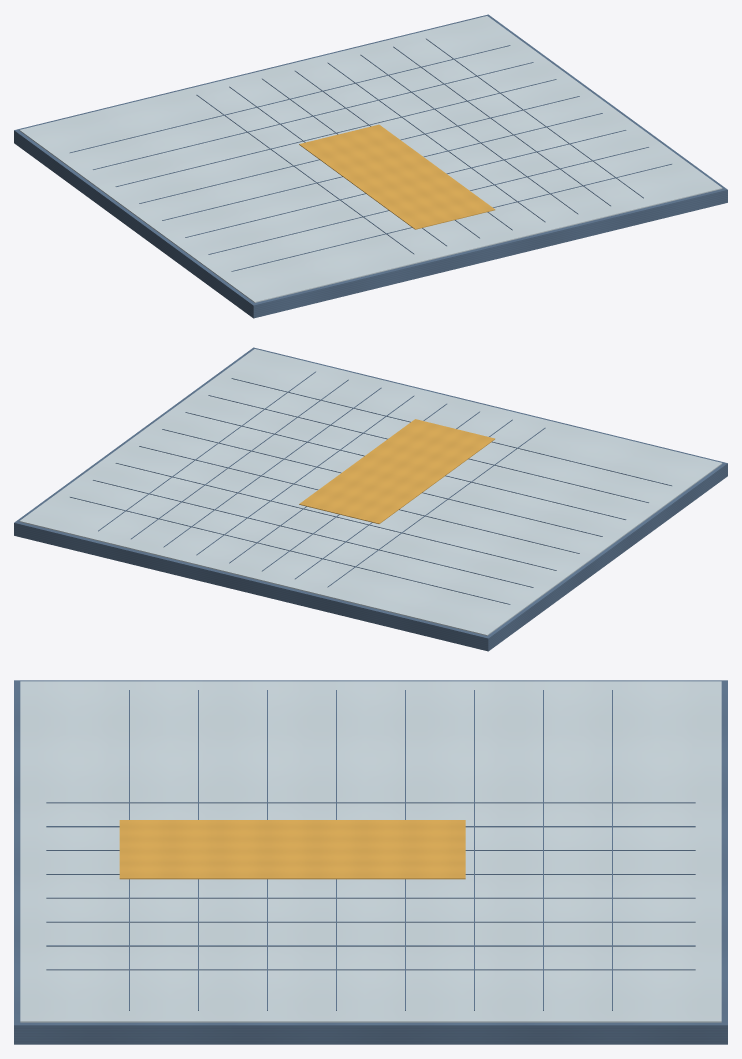
File: atlas100-s053-a07.lod1.glb
3 views of the same model, one above another, from view 1: azimuth 30°, elevation 25°; view 2: azimuth 150°, elevation 25°; view 3: azimuth 270°, elevation 25° (orthographic). The views are drawn at different scales.
Visible parts, largest first — view 1: atlas100-s053-a07:part-001, atlas100-s053-a07:part-000, atlas100-s053-a07:part-021, atlas100-s053-a07:part-013, atlas100-s053-a07:part-014, atlas100-s053-a07:part-015, atlas100-s053-a07:part-020, atlas100-s053-a07:part-018, atlas100-s053-a07:part-019, atlas100-s053-a07:part-017, atlas100-s053-a07:part-016; view 2: atlas100-s053-a07:part-001, atlas100-s053-a07:part-000, atlas100-s053-a07:part-021, atlas100-s053-a07:part-013, atlas100-s053-a07:part-014, atlas100-s053-a07:part-015, atlas100-s053-a07:part-019, atlas100-s053-a07:part-020, atlas100-s053-a07:part-016, atlas100-s053-a07:part-018, atlas100-s053-a07:part-017; view 3: atlas100-s053-a07:part-001, atlas100-s053-a07:part-000, atlas100-s053-a07:part-021, atlas100-s053-a07:part-010, atlas100-s053-a07:part-011, atlas100-s053-a07:part-012, atlas100-s053-a07:part-005, atlas100-s053-a07:part-009, atlas100-s053-a07:part-006.
Boxes of the visible parts, left/top/right/bottom form: atlas100-s053-a07:part-001: left=19, top=16, right=722, bottom=302; atlas100-s053-a07:part-000: left=14, top=14, right=727, bottom=318; atlas100-s053-a07:part-021: left=299, top=124, right=495, bottom=229; atlas100-s053-a07:part-013: left=70, top=45, right=510, bottom=152; atlas100-s053-a07:part-014: left=93, top=62, right=533, bottom=169; atlas100-s053-a07:part-015: left=115, top=79, right=556, bottom=186; atlas100-s053-a07:part-020: left=231, top=164, right=671, bottom=271; atlas100-s053-a07:part-018: left=185, top=130, right=626, bottom=237; atlas100-s053-a07:part-019: left=208, top=147, right=648, bottom=254; atlas100-s053-a07:part-017: left=162, top=113, right=602, bottom=220; atlas100-s053-a07:part-016: left=139, top=96, right=579, bottom=203; atlas100-s053-a07:part-001: left=19, top=349, right=722, bottom=635; atlas100-s053-a07:part-000: left=14, top=347, right=727, bottom=651; atlas100-s053-a07:part-021: left=299, top=419, right=494, bottom=523; atlas100-s053-a07:part-013: left=70, top=497, right=510, bottom=604; atlas100-s053-a07:part-014: left=93, top=480, right=533, bottom=587; atlas100-s053-a07:part-015: left=115, top=463, right=556, bottom=570; atlas100-s053-a07:part-019: left=208, top=395, right=648, bottom=502; atlas100-s053-a07:part-020: left=231, top=378, right=671, bottom=485; atlas100-s053-a07:part-016: left=139, top=446, right=579, bottom=553; atlas100-s053-a07:part-018: left=185, top=412, right=626, bottom=519; atlas100-s053-a07:part-017: left=162, top=429, right=602, bottom=536; atlas100-s053-a07:part-001: left=20, top=681, right=721, bottom=1022; atlas100-s053-a07:part-000: left=14, top=680, right=727, bottom=1044; atlas100-s053-a07:part-021: left=119, top=820, right=465, bottom=879; atlas100-s053-a07:part-010: left=46, top=921, right=695, bottom=922; atlas100-s053-a07:part-011: left=46, top=945, right=695, bottom=946; atlas100-s053-a07:part-012: left=46, top=969, right=695, bottom=970; atlas100-s053-a07:part-005: left=46, top=802, right=695, bottom=803; atlas100-s053-a07:part-009: left=46, top=897, right=695, bottom=898; atlas100-s053-a07:part-006: left=46, top=826, right=695, bottom=827.
Size of the model in its own units: 13.02 by 0.404 by 11.39.
3 materials, 3 textured.
